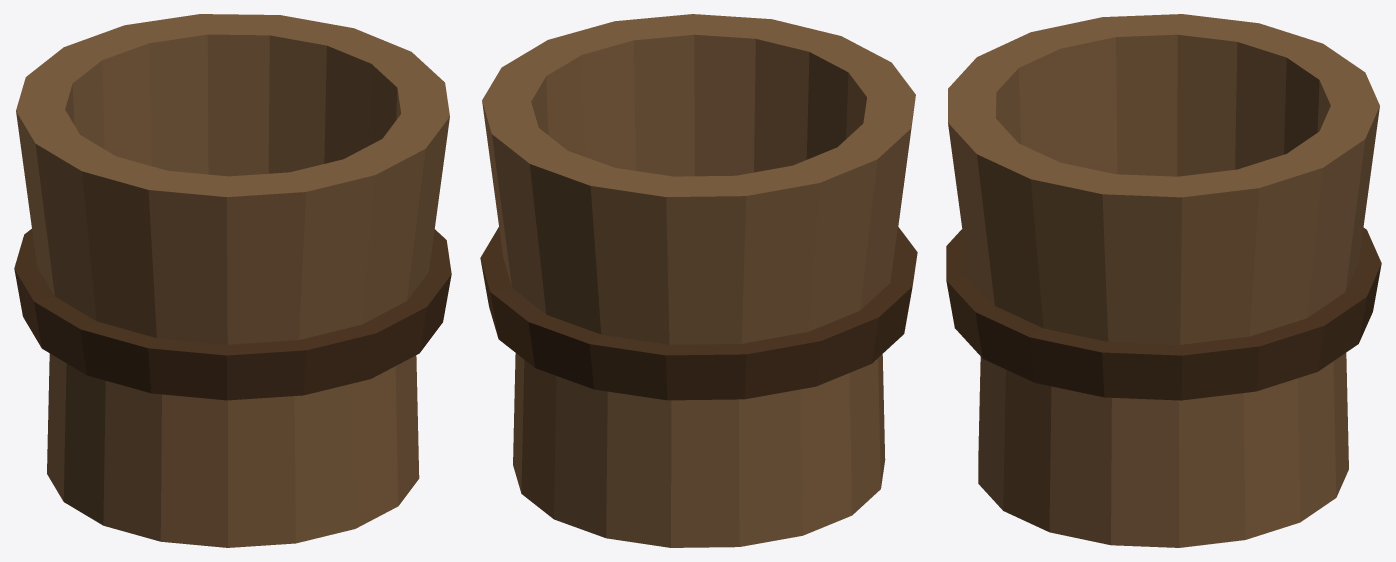
Rendered from Bucket_T1.fbx.
The picture shows the model from 3 angles, left to right: view 1: azimuth 30°, elevation 25°; view 2: azimuth 150°, elevation 25°; view 3: azimuth 270°, elevation 25°; orthographic projection.
Visible parts, largest first — view 1: Butcket_T1; view 2: Butcket_T1; view 3: Butcket_T1.
Part boxes in pixels (x1=…): Butcket_T1: x1=14, y1=14, x2=451, y2=547; Butcket_T1: x1=480, y1=14, x2=917, y2=547; Butcket_T1: x1=946, y1=14, x2=1381, y2=547.
Size of the model in its own units: 46.34 by 42.52 by 46.14.
